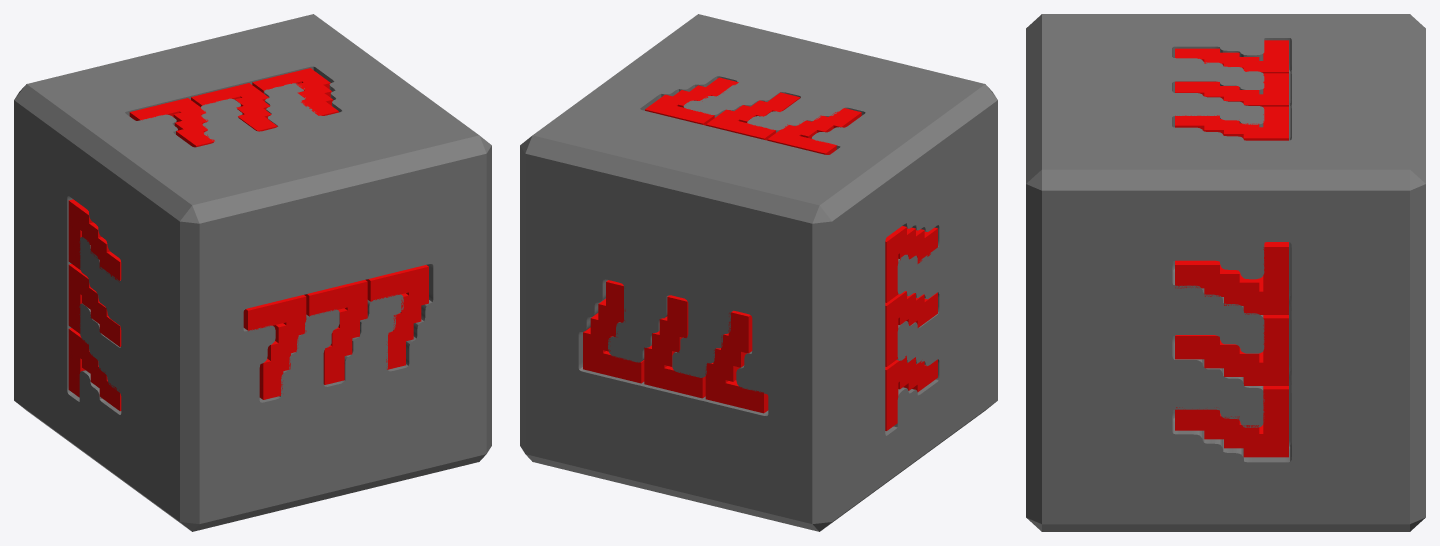
Rendered from 5_lucky_dice_777_edged.gltf.
The picture shows the model from 3 angles, left to right: view 1: azimuth 30°, elevation 25°; view 2: azimuth 150°, elevation 25°; view 3: azimuth 270°, elevation 25°; orthographic projection. The views are drawn at different scales.
Visible parts, largest first — view 1: Lucky_Dice_777; view 2: Lucky_Dice_777; view 3: Lucky_Dice_777.
Part boxes in pixels (x1=…): Lucky_Dice_777: x1=14, y1=14, x2=491, y2=531; Lucky_Dice_777: x1=520, y1=14, x2=997, y2=531; Lucky_Dice_777: x1=1026, y1=14, x2=1425, y2=531.
Size of the model in its own units: 2 by 2 by 2.
